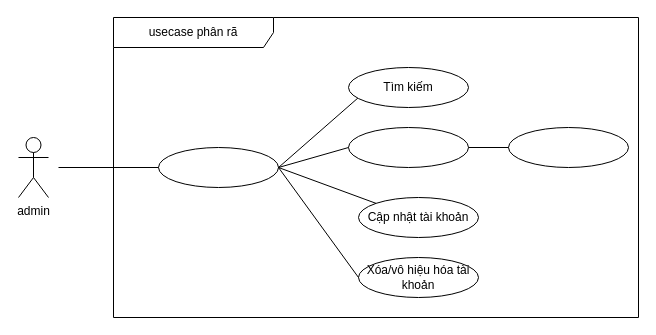
This 656x335 diagram has some shape labels left out. Here are the shapes that lost their labels. From the top down, the centre of each, then its label:
At (x=218, y=167): "Quản lý tài khoản".
At (x=408, y=147): "Tạo tài khoản".
At (x=568, y=147): "Thiết lập quyền".
